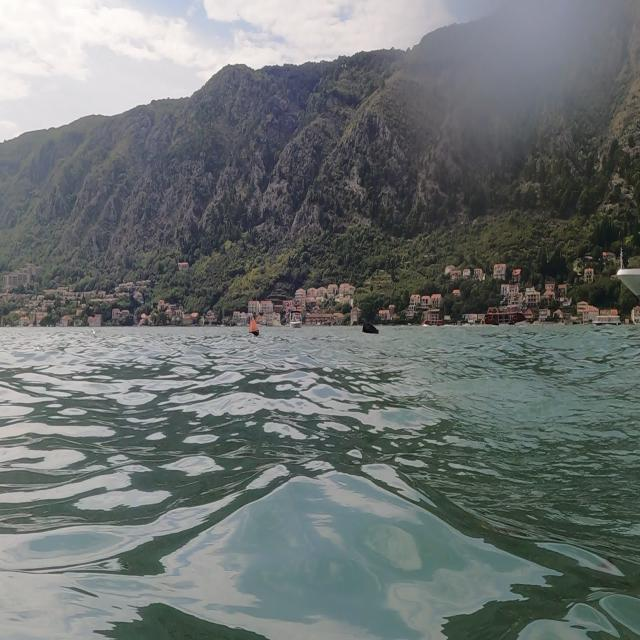buoy: (352, 314, 388, 354), (243, 306, 270, 344)
